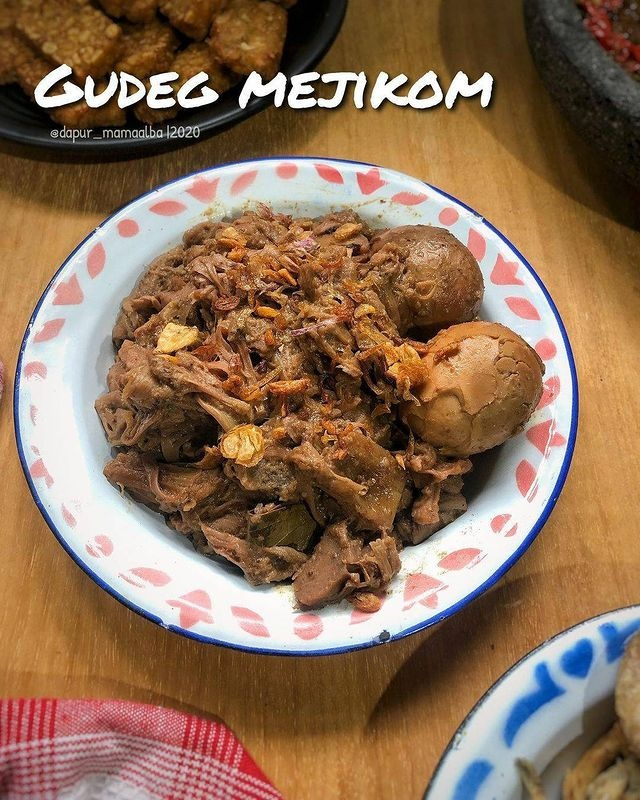gudeg: (43, 208, 594, 619)
